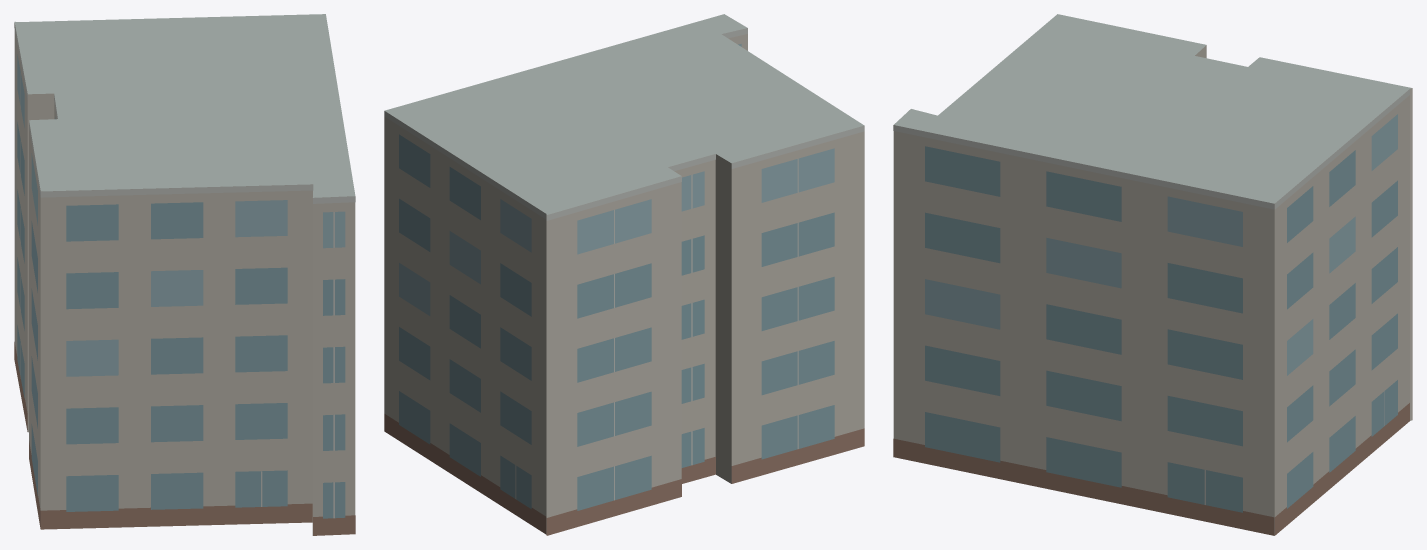
The model's file is survey-upis-32654330.glb.
The picture shows the model from 3 angles, left to right: view 1: azimuth 30°, elevation 25°; view 2: azimuth 150°, elevation 25°; view 3: azimuth 270°, elevation 25°; orthographic projection. The views are drawn at different scales.
Visible parts, largest first — view 1: survey-upis-32654330.tmp; view 2: survey-upis-32654330.tmp; view 3: survey-upis-32654330.tmp.
Part boxes in pixels (box(x1,y1,x2,y2)): survey-upis-32654330.tmp: box(14, 14, 355, 535); survey-upis-32654330.tmp: box(384, 14, 864, 535); survey-upis-32654330.tmp: box(893, 14, 1412, 535).
Size of the model in its own units: 16.55 by 13.5 by 19.13.
